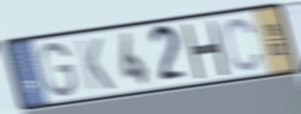2: (147, 23, 195, 88)
4: (121, 29, 152, 89)
C: (223, 16, 264, 74)
G: (39, 40, 79, 99)
H: (180, 19, 231, 80)
K: (73, 36, 117, 93)
